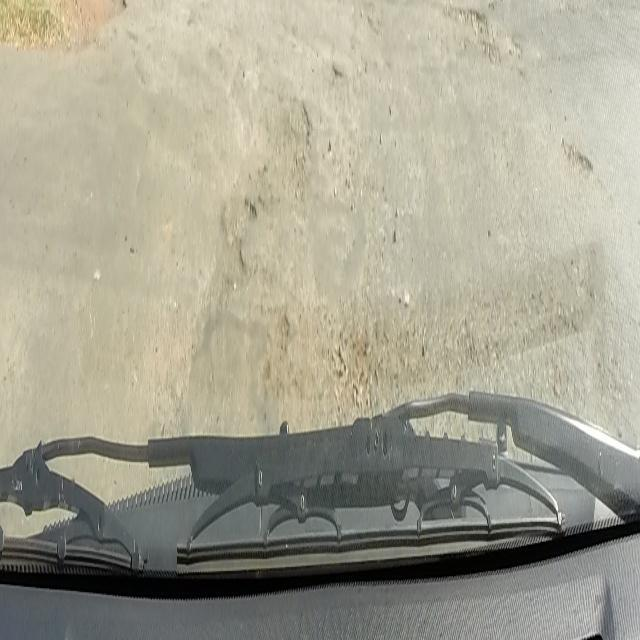pothole: (0, 0, 133, 58), (562, 136, 594, 188), (449, 1, 488, 36)
